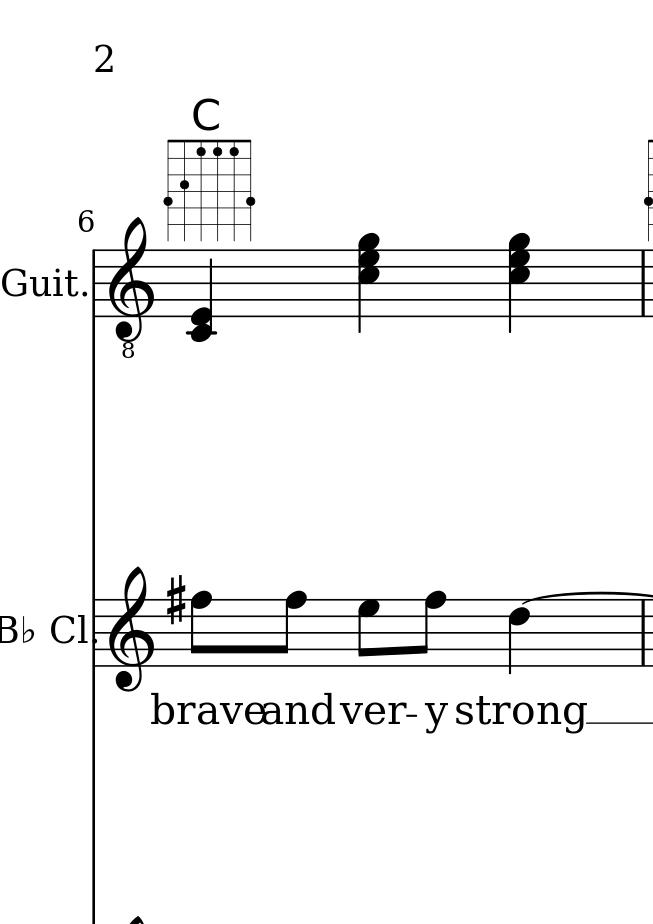2: (92, 42, 114, 73)
4_-2_0: (186, 247, 218, 343)
4_6: (507, 597, 530, 674)
4_th: (355, 231, 380, 332), (505, 231, 530, 332)
6: (79, 207, 94, 233)
8_7: (356, 597, 381, 668)
8_8: (273, 588, 306, 668), (413, 589, 446, 668), (188, 589, 212, 669)
Cl: (49, 611, 89, 647)
Fretboard: (162, 138, 257, 242)
Gclef: (107, 566, 155, 693)
Guit: (1, 263, 80, 301)
Lower_Gclef: (108, 215, 154, 361)
Sharp: (165, 574, 186, 625)
Single_barline: (635, 249, 650, 319), (636, 599, 650, 667), (88, 250, 100, 318), (90, 598, 101, 668)
